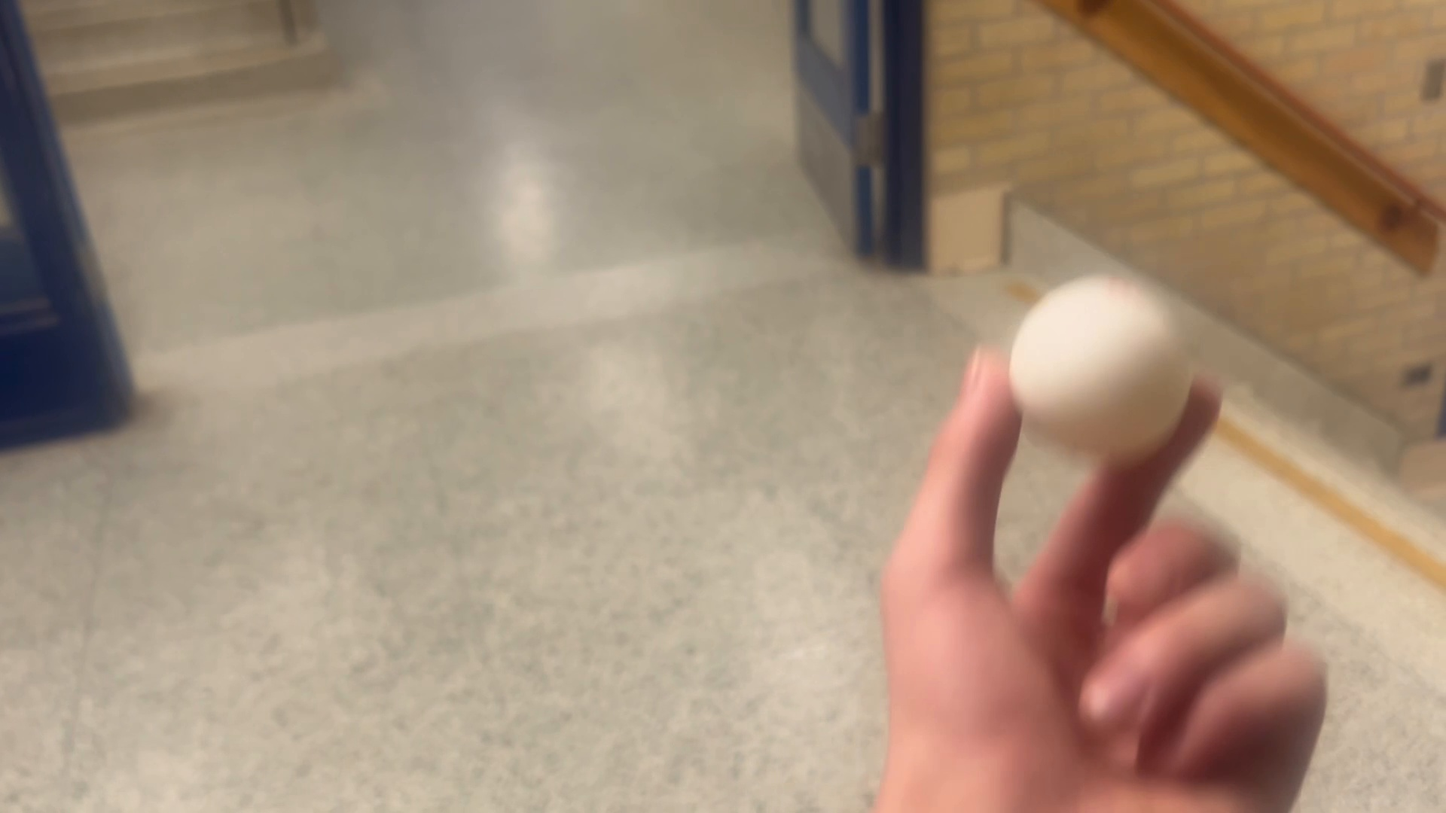Ball: (1003, 275, 1189, 459)
